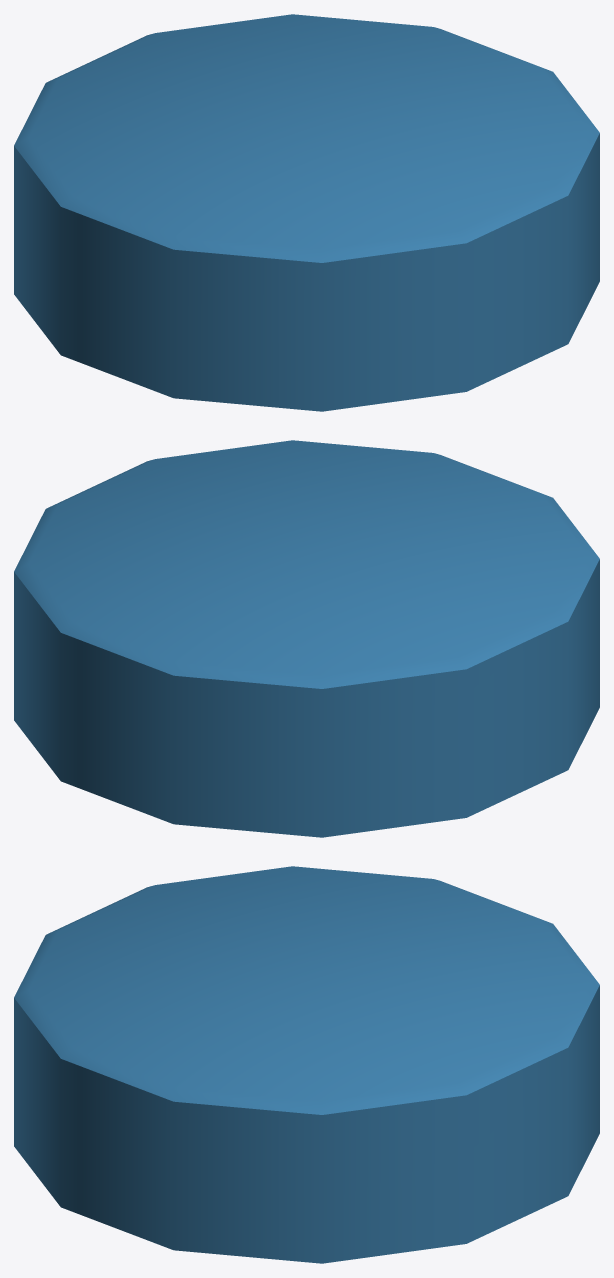
File: SM_AccQ稀释剂_盖子.fbx
The picture shows the model from 3 angles, top to bottom: view 1: azimuth 30°, elevation 25°; view 2: azimuth 150°, elevation 25°; view 3: azimuth 270°, elevation 25°; orthographic projection.
Parts seen in each view (by area): view 1: SM_AccQ稀释剂_盖子; view 2: SM_AccQ稀释剂_盖子; view 3: SM_AccQ稀释剂_盖子.
Boxes of the visible parts, <box> form: SM_AccQ稀释剂_盖子: <box>14,14,599,411</box>; SM_AccQ稀释剂_盖子: <box>14,440,599,837</box>; SM_AccQ稀释剂_盖子: <box>14,866,599,1263</box>.
Size of the model in its own units: 25.98 by 7.63 by 25.98.
